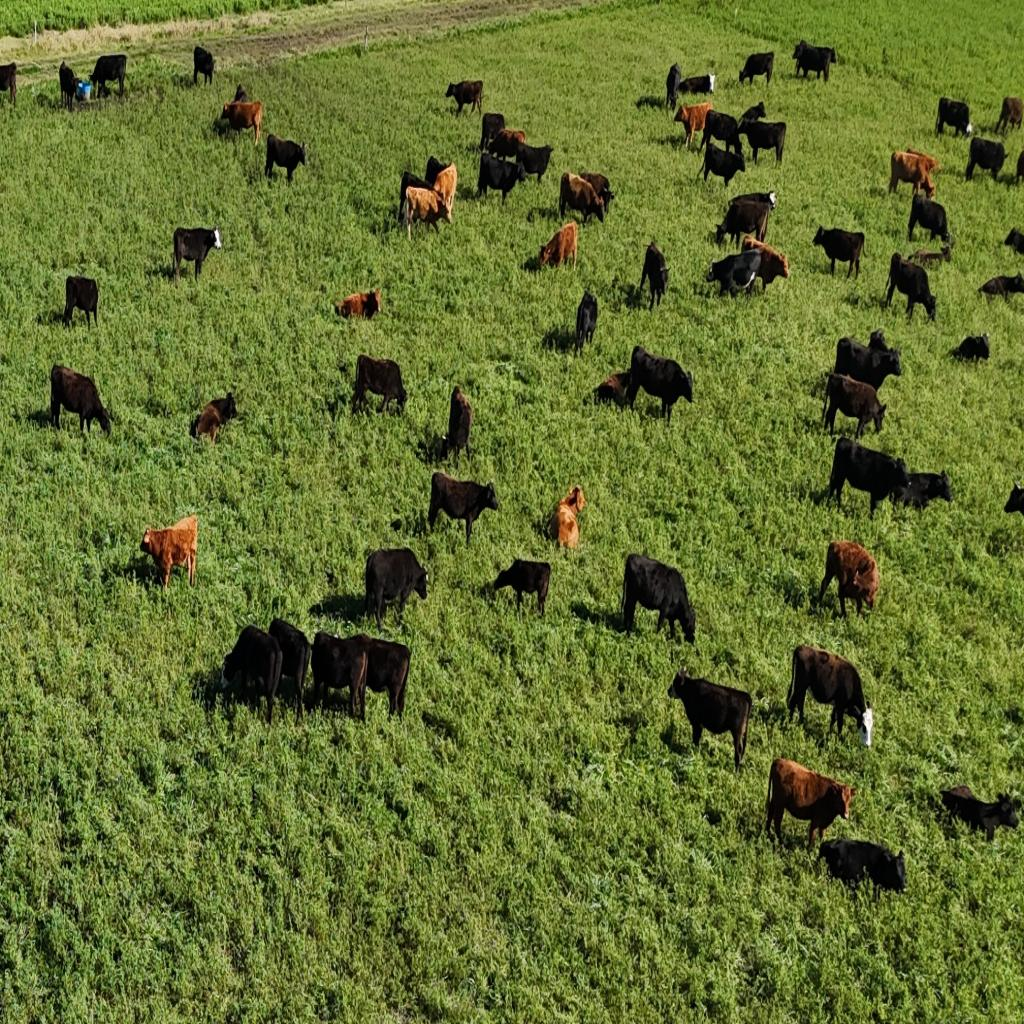cow: (766, 758, 854, 852), (667, 668, 749, 768), (786, 644, 870, 740), (219, 624, 284, 724), (829, 438, 907, 518), (622, 553, 691, 642), (818, 836, 906, 900), (365, 547, 431, 632), (310, 632, 370, 724), (816, 540, 882, 619), (430, 473, 500, 547), (352, 636, 412, 722), (626, 348, 692, 426), (941, 786, 1021, 844), (253, 120, 315, 193), (50, 364, 112, 437), (139, 514, 198, 590), (265, 618, 311, 714), (833, 332, 902, 396), (823, 372, 886, 440), (885, 252, 937, 322), (492, 556, 550, 618), (352, 355, 406, 420), (714, 195, 777, 250), (739, 235, 790, 293), (812, 225, 866, 279), (172, 226, 222, 283), (708, 248, 763, 299), (560, 171, 609, 227), (478, 150, 526, 206), (891, 469, 953, 512), (442, 385, 474, 467), (889, 148, 939, 200), (402, 185, 450, 239), (191, 392, 237, 446), (740, 118, 788, 165), (908, 193, 950, 245), (552, 485, 586, 547), (640, 240, 669, 312), (538, 221, 578, 272), (701, 110, 745, 156), (62, 275, 99, 329), (222, 99, 262, 148), (674, 102, 712, 152), (966, 136, 1006, 183), (792, 41, 836, 82), (704, 144, 746, 186), (510, 141, 552, 183), (333, 286, 381, 320), (90, 54, 126, 98), (935, 96, 972, 138), (576, 288, 598, 356), (486, 129, 527, 163), (446, 79, 482, 117), (980, 272, 1024, 303), (948, 332, 990, 364), (737, 51, 774, 87), (594, 373, 628, 410), (910, 241, 954, 269), (996, 95, 1024, 137), (734, 186, 777, 213), (58, 60, 80, 112), (479, 112, 506, 153), (678, 71, 716, 99), (1001, 141, 1024, 186), (425, 154, 454, 188), (737, 98, 766, 128), (194, 44, 214, 86), (0, 61, 17, 109), (666, 62, 682, 112), (1003, 482, 1024, 516), (870, 329, 898, 353), (1003, 228, 1024, 259), (233, 84, 249, 103), (738, 64, 751, 86)
